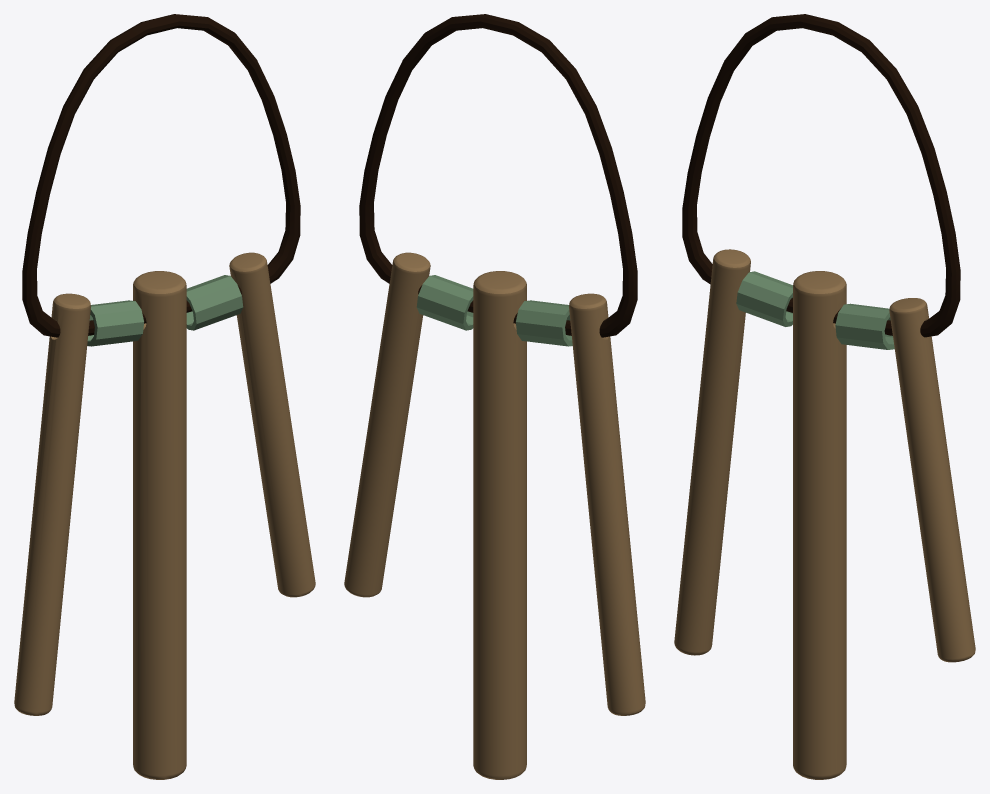
The model's file is ChimeSet_1.obj.
The picture shows the model from 3 angles, left to right: view 1: azimuth 30°, elevation 25°; view 2: azimuth 150°, elevation 25°; view 3: azimuth 330°, elevation 25°; orthographic projection.
Visible parts, largest first — view 1: Chime, Chime1, Chime2, Rope, Spacer_Bead1, Spacer_Bead; view 2: Chime, Chime1, Chime2, Rope, Spacer_Bead1, Spacer_Bead; view 3: Chime, Chime1, Chime2, Rope, Spacer_Bead, Spacer_Bead1.
Part boxes in pixels (left/top/right/bottom): Chime: left=133, top=271, right=186, bottom=779; Chime1: left=14, top=293, right=90, bottom=715; Chime2: left=229, top=252, right=315, bottom=597; Rope: left=22, top=14, right=300, bottom=337; Spacer_Bead1: left=186, top=275, right=243, bottom=330; Spacer_Bead: left=87, top=300, right=143, bottom=346; Chime: left=473, top=271, right=526, bottom=779; Chime1: left=569, top=293, right=645, bottom=715; Chime2: left=344, top=252, right=430, bottom=597; Rope: left=359, top=14, right=637, bottom=337; Spacer_Bead1: left=416, top=275, right=473, bottom=330; Spacer_Bead: left=516, top=300, right=572, bottom=346; Chime: left=793, top=271, right=846, bottom=779; Chime1: left=674, top=249, right=750, bottom=655; Chime2: left=889, top=298, right=975, bottom=662; Rope: left=682, top=14, right=960, bottom=337; Spacer_Bead: left=736, top=271, right=792, bottom=326; Spacer_Bead1: left=835, top=303, right=894, bottom=349.
Size of the model in its own units: 1.9 by 4.6 by 0.3.
